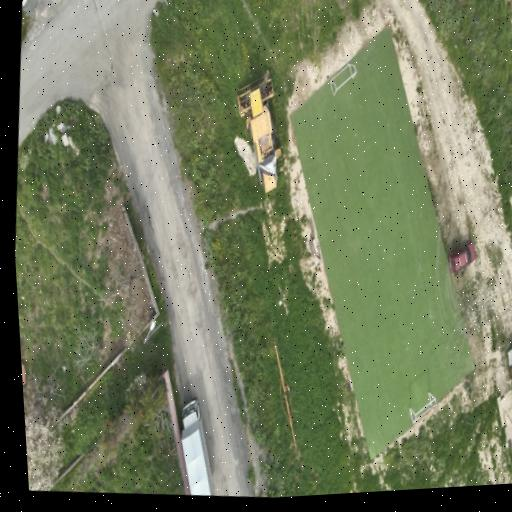car: (448, 241, 475, 273)
harvester: (237, 71, 280, 191)
truck: (181, 398, 213, 495)
